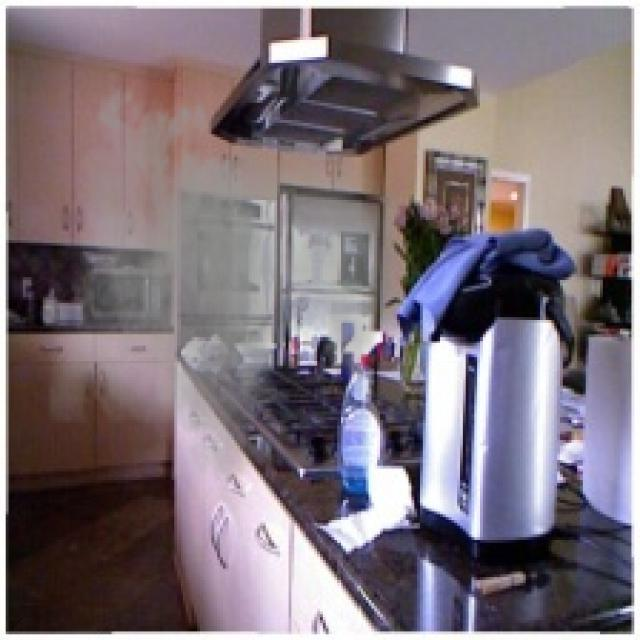Smoke: (48, 74, 400, 497)
